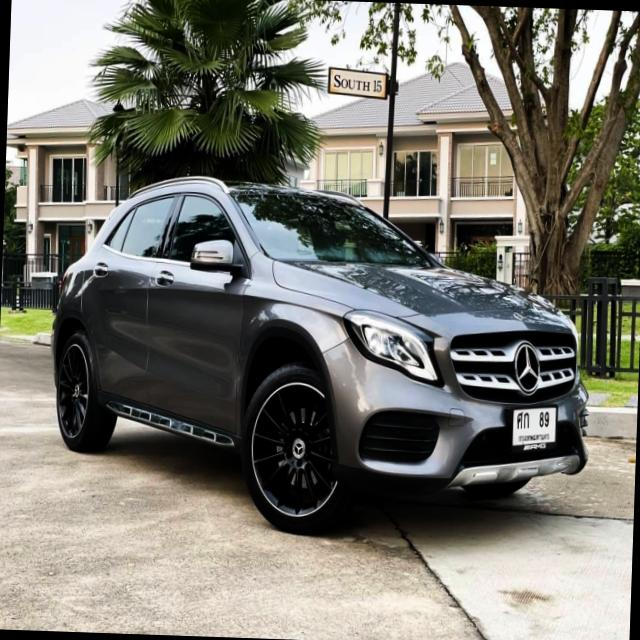license_plate: (507, 401, 560, 452)
